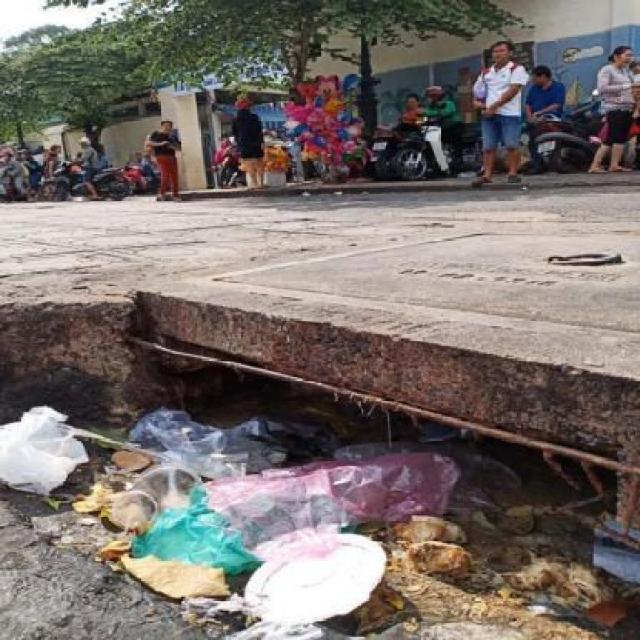plastic bag: (74, 423, 491, 625), (0, 406, 89, 492)
